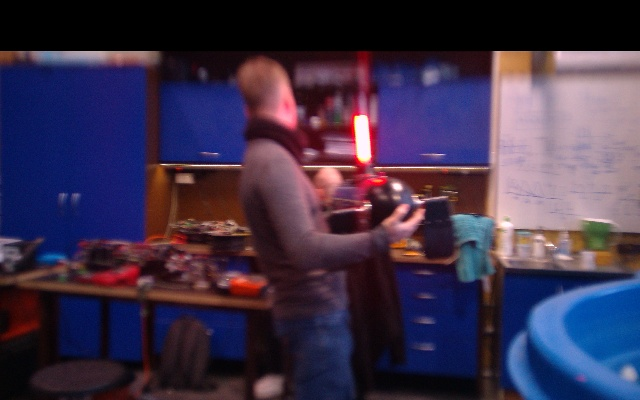red: (354, 114, 373, 168)
